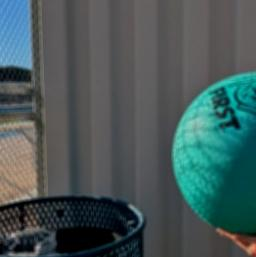algae: (174, 71, 256, 238)
